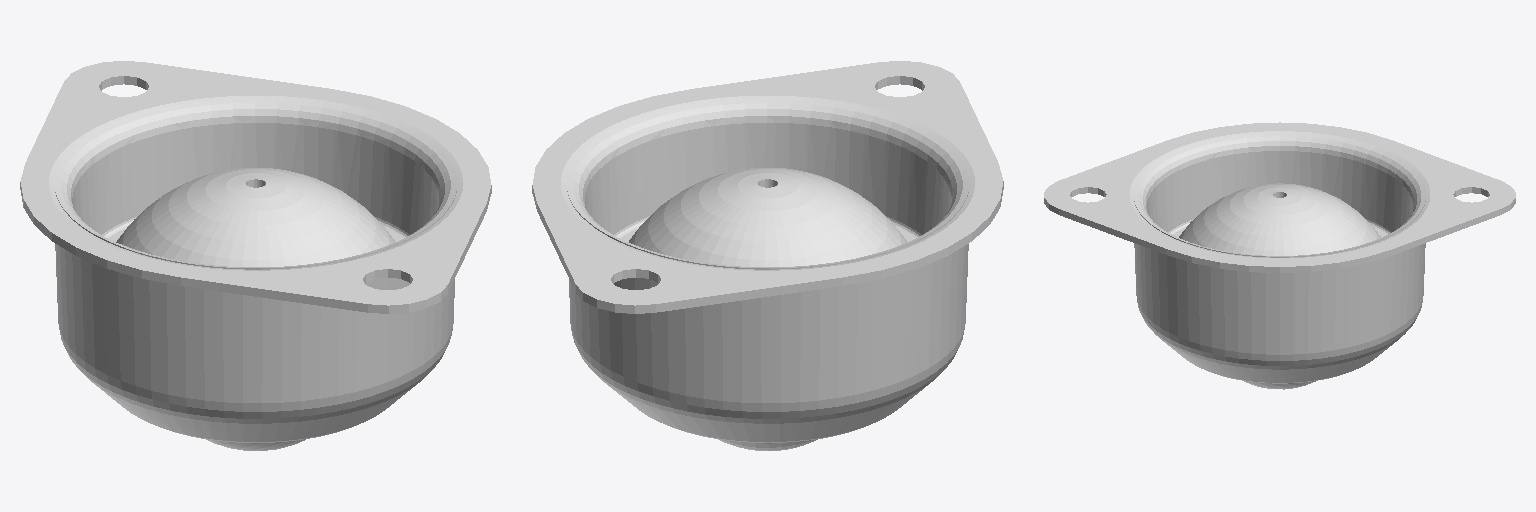
URDF robot description (URDF 2):
<?xml version="1.0" encoding="utf-8"?>
<!-- This URDF was automatically created by SolidWorks to URDF Exporter! Originally created by [author] ([email redacted]) 
     Commit Version: 1.6.0-4-g7f85cfe  Build Version: 1.6.7995.38578
     For more information, please see http://wiki.ros.org/sw_urdf_exporter -->
<robot
  name="URDF 2">
  <link
    name="base_link">
    <inertial>
      <origin
        xyz="0.00838566222314017 -0.00175945347875662 -0.000186169118924884"
        rpy="0 0 0" />
      <mass
        value="0.449886789963798" />
      <inertia
        ixx="0.00074159205310207"
        ixy="1.64362520304945E-06"
        ixz="1.52064449715939E-07"
        iyy="0.00220265043035818"
        iyz="-7.38634321348047E-09"
        izz="0.00147198182450226" />
    </inertial>
    <visual>
      <origin
        xyz="0 0 0"
        rpy="0 0 0" />
      <geometry>
        <mesh
          filename="package://URDF 2/meshes/base_link.STL" />
      </geometry>
      <material
        name="">
        <color
          rgba="0.537254901960784 0.349019607843137 0.337254901960784 1" />
      </material>
    </visual>
    <collision>
      <origin
        xyz="0 0 0"
        rpy="0 0 0" />
      <geometry>
        <mesh
          filename="package://URDF 2/meshes/base_link.STL" />
      </geometry>
    </collision>
  </link>
  <link
    name="bola1_Link">
    <inertial>
      <origin
        xyz="-1.57279833080948E-09 1.97751798269863E-09 0.000474666390947093"
        rpy="0 0 0" />
      <mass
        value="0.0505890697331487" />
      <inertia
        ixx="2.82629424828748E-05"
        ixy="1.66841252846015E-12"
        ixz="5.67166577200729E-13"
        iyy="2.8262941544918E-05"
        iyz="-1.63581654999165E-12"
        izz="4.83451973964662E-05" />
    </inertial>
    <visual>
      <origin
        xyz="0 0 0"
        rpy="0 0 0" />
      <geometry>
        <mesh
          filename="package://URDF 2/meshes/bola1_Link.STL" />
      </geometry>
      <material
        name="">
        <color
          rgba="1 1 0 1" />
      </material>
    </visual>
    <collision>
      <origin
        xyz="0 0 0"
        rpy="0 0 0" />
      <geometry>
        <mesh
          filename="package://URDF 2/meshes/bola1_Link.STL" />
      </geometry>
    </collision>
  </link>
  <joint
    name="bola1_joint"
    type="revolute">
    <origin
      xyz="-0.053091 -0.098296 0.011373"
      rpy="1.5708 -1.1528 0" />
    <parent
      link="base_link" />
    <child
      link="bola1_Link" />
    <axis
      xyz="0 0 0" />
    <limit
      lower="-3.14"
      upper="3.14"
      effort="0"
      velocity="0" />
  </joint>
  <link
    name="bola2_Link">
    <inertial>
      <origin
        xyz="-2.8092860329676E-09 -1.62563564692908E-09 0.000474666987463443"
        rpy="0 0 0" />
      <mass
        value="0.0505890699400185" />
      <inertia
        ixx="2.82629417091322E-05"
        ixy="-1.45857255869189E-12"
        ixz="1.59293683683434E-12"
        iyy="2.82629426261707E-05"
        iyz="1.42351069917057E-12"
        izz="4.8345197400437E-05" />
    </inertial>
    <visual>
      <origin
        xyz="0 0 0"
        rpy="0 0 0" />
      <geometry>
        <mesh
          filename="package://URDF 2/meshes/bola2_Link.STL" />
      </geometry>
      <material
        name="">
        <color
          rgba="1 1 0 1" />
      </material>
    </visual>
    <collision>
      <origin
        xyz="0 0 0"
        rpy="0 0 0" />
      <geometry>
        <mesh
          filename="package://URDF 2/meshes/bola2_Link.STL" />
      </geometry>
    </collision>
  </link>
  <joint
    name="bola2_joint"
    type="revolute">
    <origin
      xyz="-0.053091 0.098228 0.011373"
      rpy="1.5708 -0.58968 3.1416" />
    <parent
      link="base_link" />
    <child
      link="bola2_Link" />
    <axis
      xyz="0 0 0" />
    <limit
      lower="-3.14"
      upper="3.14"
      effort="0"
      velocity="0" />
  </joint>
  <link
    name="suporte1_Link">
    <inertial>
      <origin
        xyz="-6.93889390390723E-18 0.00638467713248998 0"
        rpy="0 0 0" />
      <mass
        value="0.00418212896344437" />
      <inertia
        ixx="2.09742622220717E-07"
        ixy="-2.33935383916263E-23"
        ixz="-3.97046694025453E-23"
        iyy="3.85687250302628E-07"
        iyz="5.4813509514362E-23"
        izz="2.09742622220717E-07" />
    </inertial>
    <visual>
      <origin
        xyz="0 0 0"
        rpy="0 0 0" />
      <geometry>
        <mesh
          filename="package://URDF 2/meshes/suporte1_Link.STL" />
      </geometry>
      <material
        name="">
        <color
          rgba="0.898039215686275 0.898039215686275 0.898039215686275 1" />
      </material>
    </visual>
    <collision>
      <origin
        xyz="0 0 0"
        rpy="0 0 0" />
      <geometry>
        <mesh
          filename="package://URDF 2/meshes/suporte1_Link.STL" />
      </geometry>
    </collision>
  </link>
  <joint
    name="suporte1_joint"
    type="fixed">
    <origin
      xyz="0.068659 -0.00018379 -0.0068594"
      rpy="-1.5708 0 0.99209" />
    <parent
      link="base_link" />
    <child
      link="suporte1_Link" />
    <axis
      xyz="0 0 0" />
  </joint>
  <link
    name="bola_Link">
    <inertial>
      <origin
        xyz="6.08106567458119E-05 -0.00258830988134135 0.00126334434939675"
        rpy="0 0 0" />
      <mass
        value="0.0108551890743605" />
      <inertia
        ixx="2.08289240912705E-07"
        ixy="-6.61744490042422E-24"
        ixz="0"
        iyy="2.08289240912705E-07"
        iyz="-6.61744490042422E-24"
        izz="2.08289240912705E-07" />
    </inertial>
    <visual>
      <origin
        xyz="0 0 0"
        rpy="0 0 0" />
      <geometry>
        <mesh
          filename="package://URDF 2/meshes/bola_Link.STL" />
      </geometry>
      <material
        name="">
        <color
          rgba="0.898039215686275 0.898039215686275 0.898039215686275 1" />
      </material>
    </visual>
    <collision>
      <origin
        xyz="0 0 0"
        rpy="0 0 0" />
      <geometry>
        <mesh
          filename="package://URDF 2/meshes/bola_Link.STL" />
      </geometry>
    </collision>
  </link>
  <joint
    name="bola_joint"
    type="continuous">
    <origin
      xyz="0 0.01 0"
      rpy="0.46756 -0.56834 3.1165" />
    <parent
      link="suporte1_Link" />
    <child
      link="bola_Link" />
    <axis
      xyz="0 0 0" />
  </joint>
  <link
    name="suporte2_Link">
    <inertial>
      <origin
        xyz="1.46909394371786E-17 -0.00867173136296422 2.77555756156289E-17"
        rpy="0 0 0" />
      <mass
        value="0.00580682672070605" />
      <inertia
        ixx="4.73150858037673E-07"
        ixy="1.28523937720156E-22"
        ixz="4.91835551020675E-23"
        iyy="8.06008671734035E-07"
        iyz="-7.61350549863291E-23"
        izz="5.6693570010674E-07" />
    </inertial>
    <visual>
      <origin
        xyz="0 0 0"
        rpy="0 0 0" />
      <geometry>
        <mesh
          filename="package://URDF 2/meshes/suporte2_Link.STL" />
      </geometry>
      <material
        name="">
        <color
          rgba="0.898039215686275 0.898039215686275 0.898039215686275 1" />
      </material>
    </visual>
    <collision>
      <origin
        xyz="0 0 0"
        rpy="0 0 0" />
      <geometry>
        <mesh
          filename="package://URDF 2/meshes/suporte2_Link.STL" />
      </geometry>
    </collision>
  </link>
  <joint
    name="suporte2_joint"
    type="fixed">
    <origin
      xyz="0.068659 -0.00018379 -0.0068594"
      rpy="1.5708 0 -1.5708" />
    <parent
      link="base_link" />
    <child
      link="suporte2_Link" />
    <axis
      xyz="0 0 0" />
  </joint>
</robot>

--- What the picture shows (computed from the rendered views, not written in the file) ---
3 views of the same robot in one strip: view 1: azimuth 30°, elevation 25°; view 2: azimuth 150°, elevation 25°; view 3: azimuth 270°, elevation 25° (orthographic).
Robot: URDF 2 — 6 links, 5 joints (2 revolute, 1 continuous, 2 fixed); root link base_link; default pose: every joint at zero.
Visible links, largest first — view 1: suporte2_Link, suporte1_Link, bola_Link; view 2: suporte2_Link, suporte1_Link, bola_Link; view 3: suporte2_Link, suporte1_Link.
Link boxes in pixels (<box>): suporte2_Link: <box>20,61,491,442</box>; suporte1_Link: <box>55,98,456,269</box>; bola_Link: <box>206,439,305,450</box>; suporte2_Link: <box>532,61,1003,442</box>; suporte1_Link: <box>567,98,968,269</box>; bola_Link: <box>718,439,817,450</box>; suporte2_Link: <box>1044,122,1515,383</box>; suporte1_Link: <box>1134,133,1425,257</box>.
Size in the robot's own frame: 0.0283 by 0.0389 by 0.017 metres.
3 mesh visuals loaded from 6 distinct referenced files (3 binary STL); not drawn: 3 (reference not matched to a file when rendering).